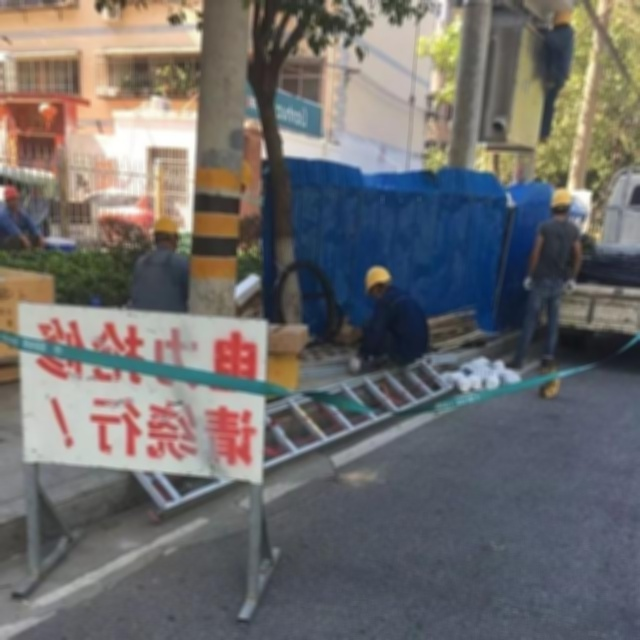Con_Casco: (365, 265, 391, 302), (553, 186, 572, 216)
